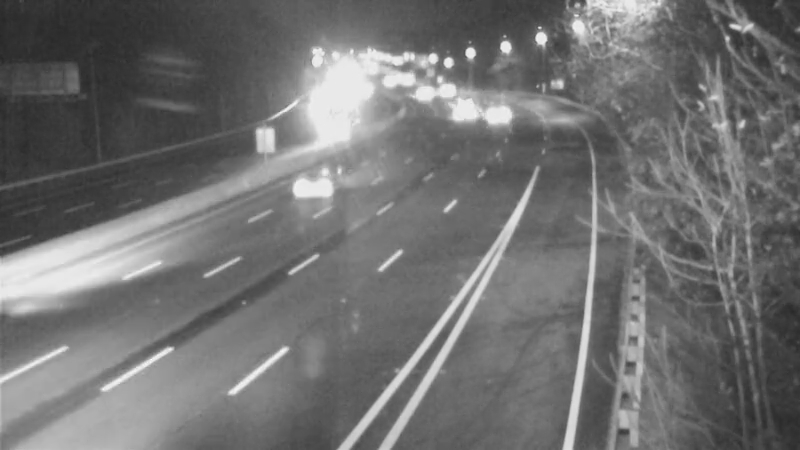vehicle: (285, 150, 365, 230), (424, 64, 474, 114), (396, 68, 446, 118), (431, 76, 481, 126), (467, 94, 517, 144), (434, 89, 484, 139), (310, 101, 360, 151)
